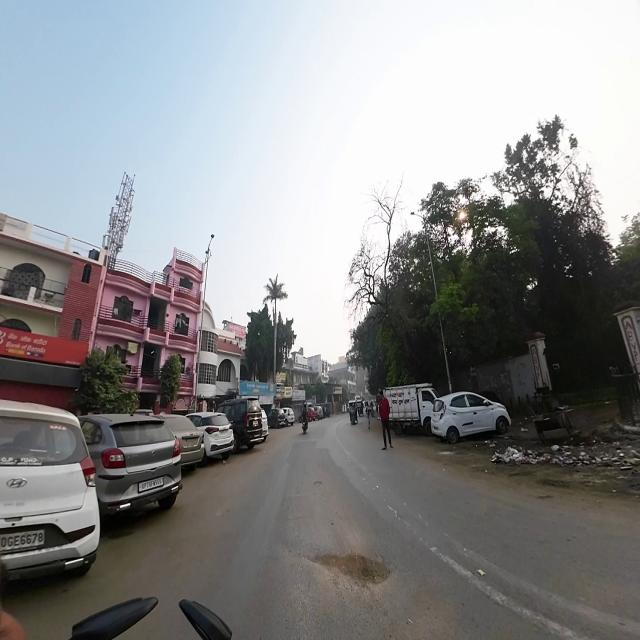Garbage: (555, 443, 640, 475), (492, 443, 550, 469)
